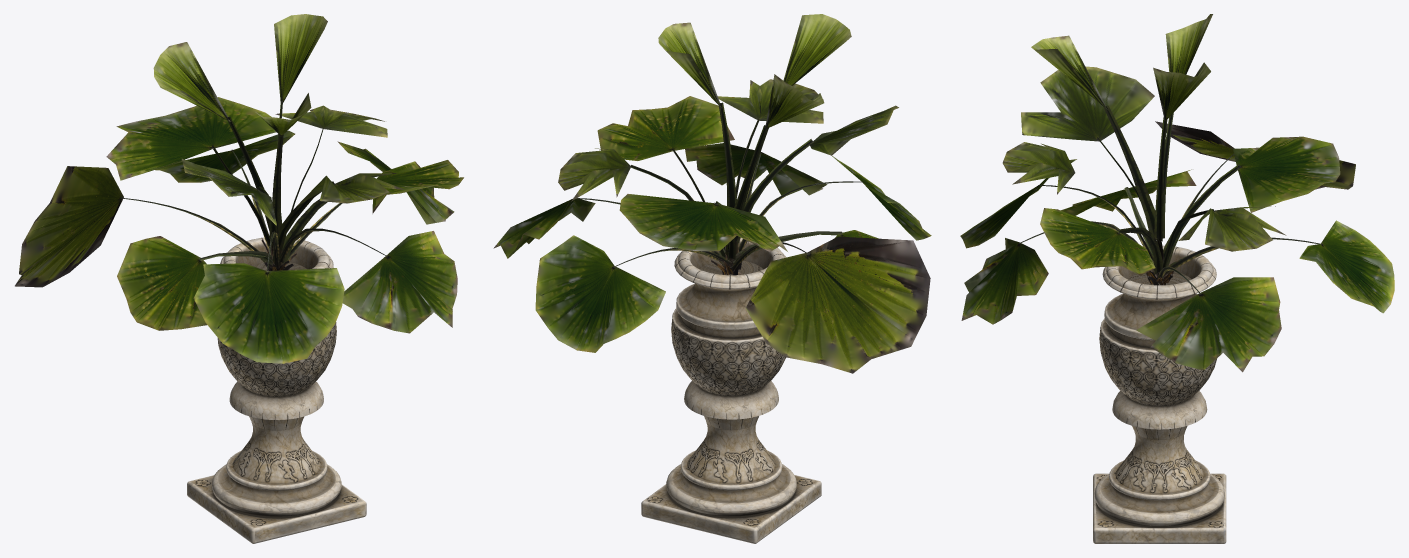
File: TablePlant.fbx
The picture shows the model from 3 angles, left to right: view 1: azimuth 30°, elevation 25°; view 2: azimuth 150°, elevation 25°; view 3: azimuth 270°, elevation 25°; orthographic projection.
Visible parts, largest first — view 1: 03_1, vase_Flower_Pot_; view 2: 03_1, vase_Flower_Pot_; view 3: 03_1, vase_Flower_Pot_.
Boxes of the visible parts, x1=… form: 03_1: x1=15, y1=14, x2=463, y2=363; vase_Flower_Pot_: x1=187, y1=237, x2=366, y2=543; 03_1: x1=493, y1=14, x2=931, y2=373; vase_Flower_Pot_: x1=641, y1=238, x2=821, y2=543; 03_1: x1=960, y1=14, x2=1394, y2=372; vase_Flower_Pot_: x1=1093, y1=245, x2=1226, y2=543.
Bounding box in the file's own units: 58.17 × 62.67 × 52.34.
